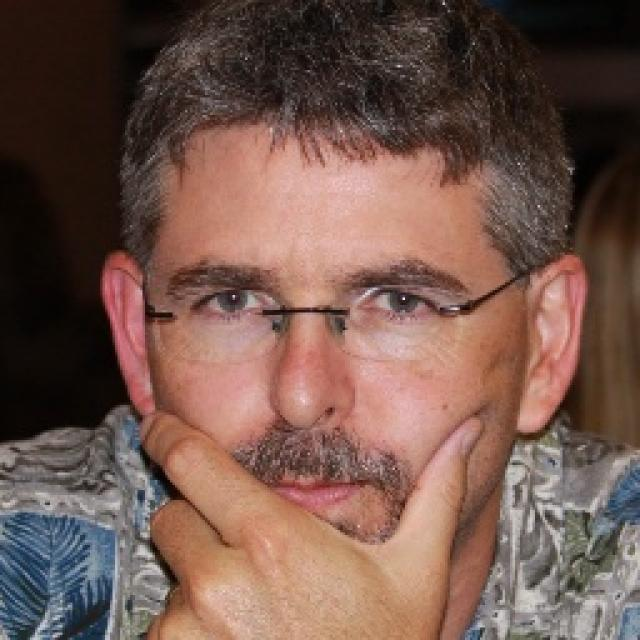earlobe: (516, 394, 556, 436), (124, 380, 158, 421)
eye: (355, 288, 447, 326), (198, 285, 264, 321)
nose: (270, 408, 338, 459)
wholeear: (518, 250, 586, 430), (98, 253, 158, 419)
